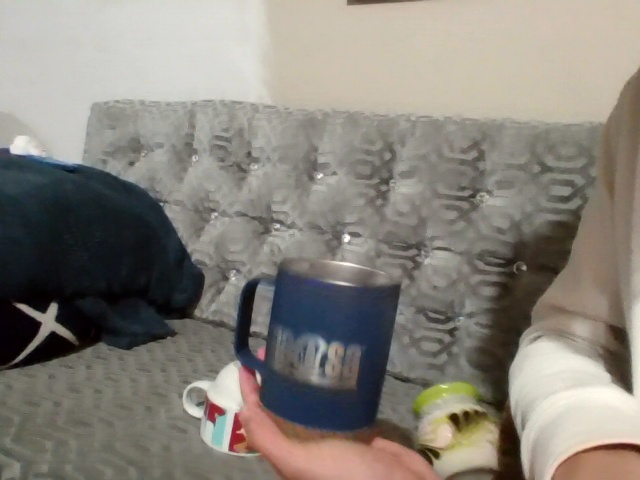botella: (204, 239, 380, 443), (156, 334, 265, 456), (411, 353, 521, 472)
